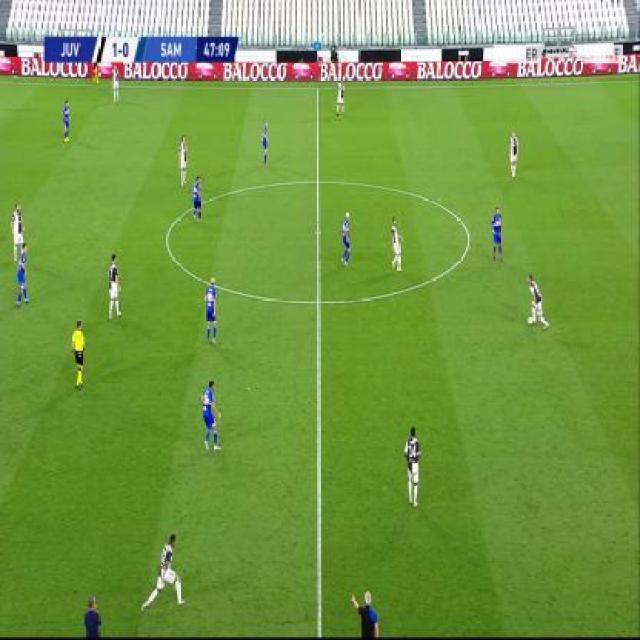ball: (527, 315, 533, 326)
player: (139, 533, 188, 616), (199, 378, 222, 455), (403, 423, 423, 506), (352, 588, 383, 639), (527, 271, 549, 331), (70, 316, 87, 389), (105, 250, 122, 319), (203, 276, 219, 345), (9, 200, 26, 263), (81, 593, 104, 639), (15, 245, 31, 310), (389, 215, 406, 272), (339, 209, 353, 269), (490, 205, 504, 262), (176, 132, 189, 186), (509, 128, 520, 179), (192, 173, 203, 224), (259, 118, 270, 167), (61, 97, 72, 143), (335, 76, 346, 116), (110, 63, 119, 102), (92, 60, 100, 83)
